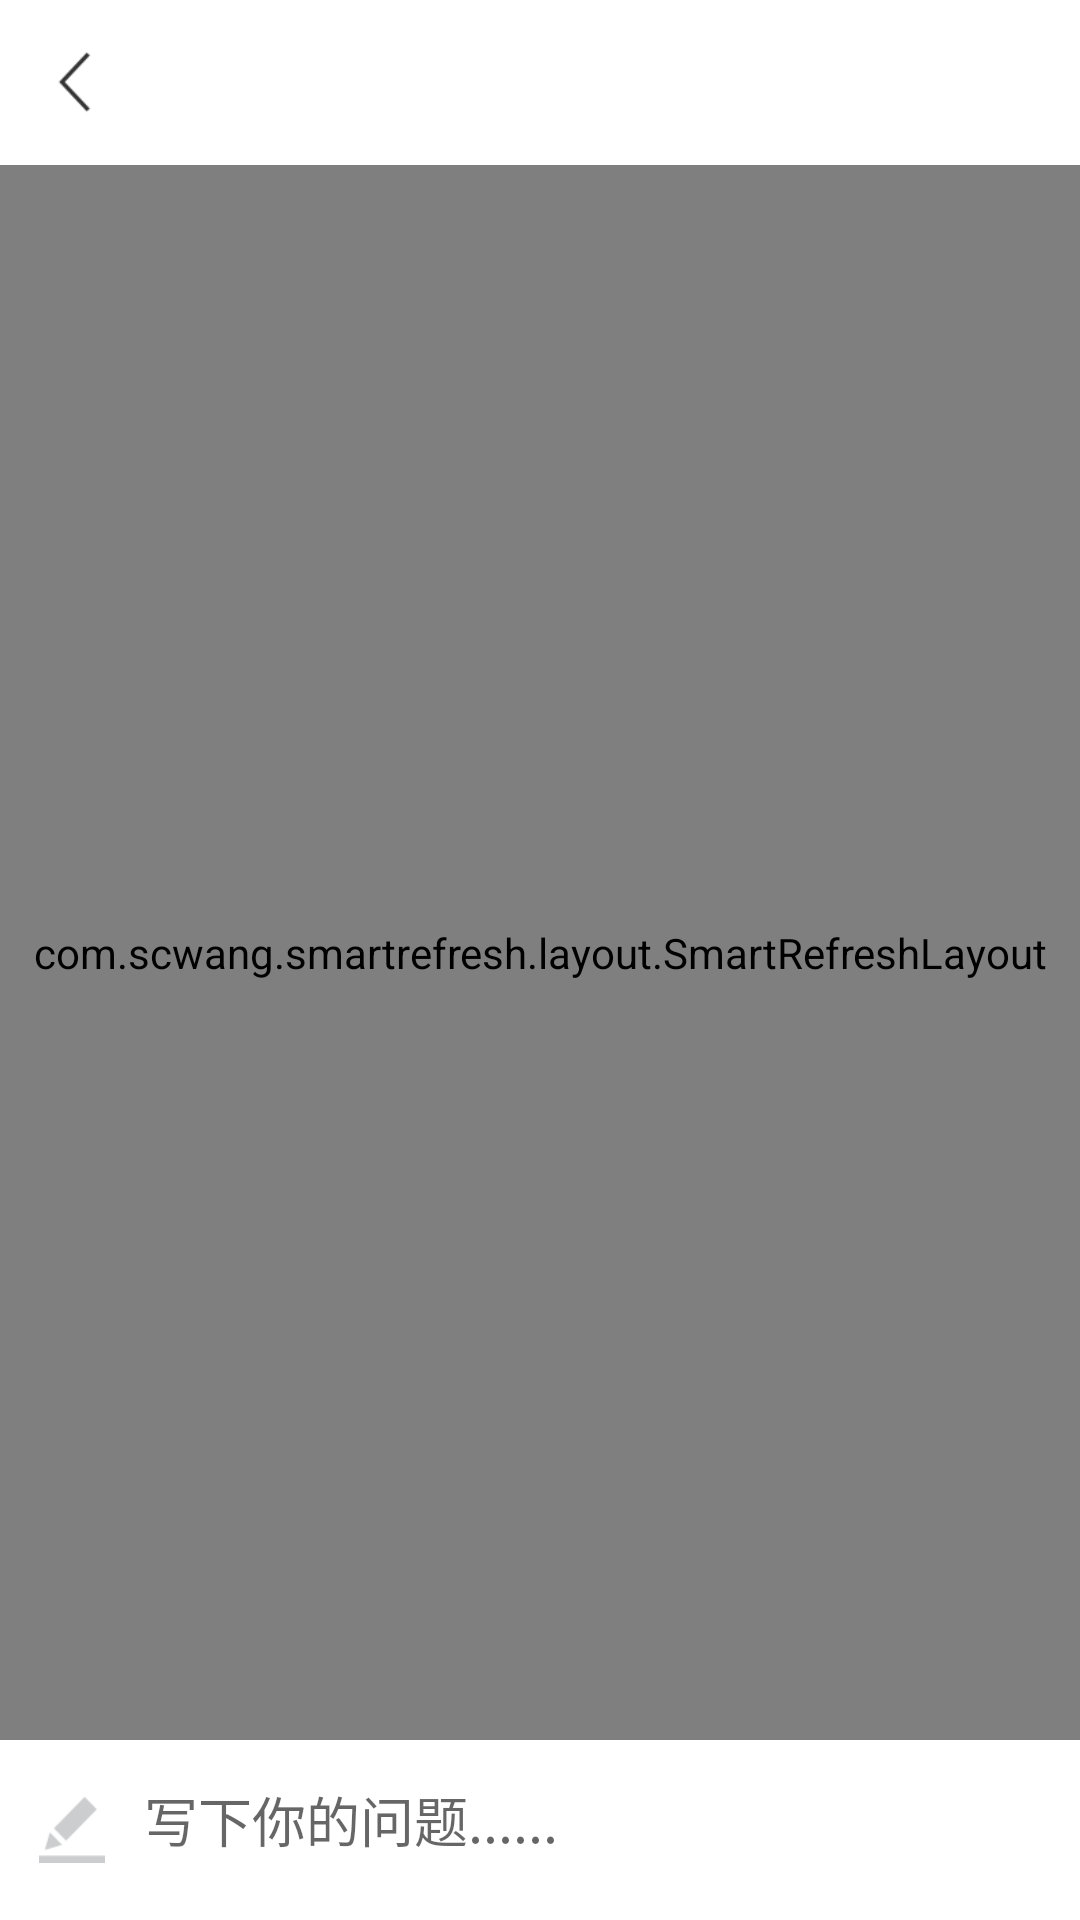

Named icons in this screenshot (1080 x 1920) and their bounding boxes, {"x1": x1, "y1": y1, "x2": x2, "y2": y2}:
im arrow return: {"x1": 59, "y1": 52, "x2": 90, "y2": 112}
write: {"x1": 39, "y1": 1797, "x2": 105, "y2": 1863}
